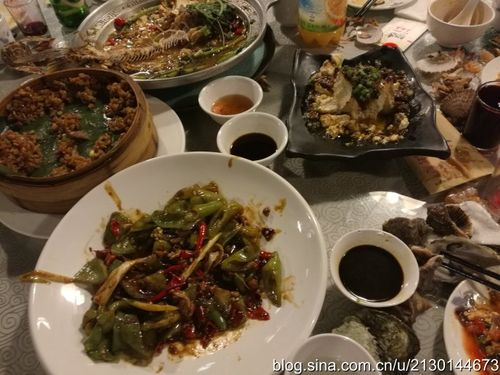food: (47, 153, 333, 360), (2, 53, 147, 200), (288, 36, 444, 160), (84, 0, 261, 84), (195, 70, 262, 126)
